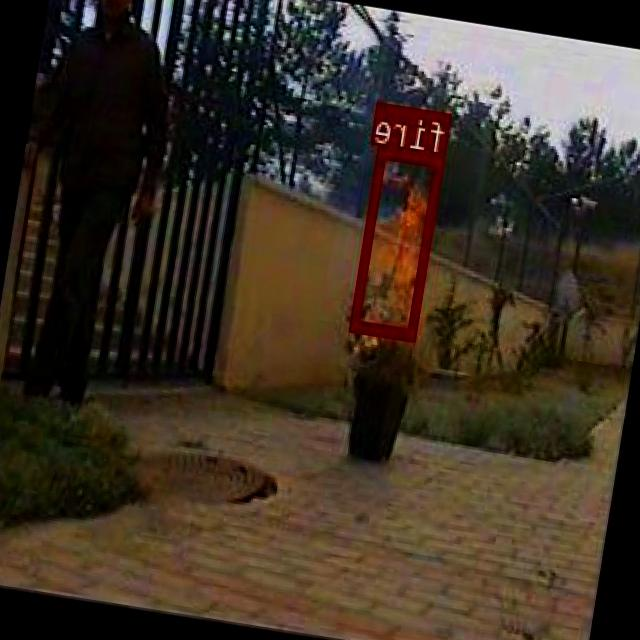fire: (352, 146, 446, 338)
